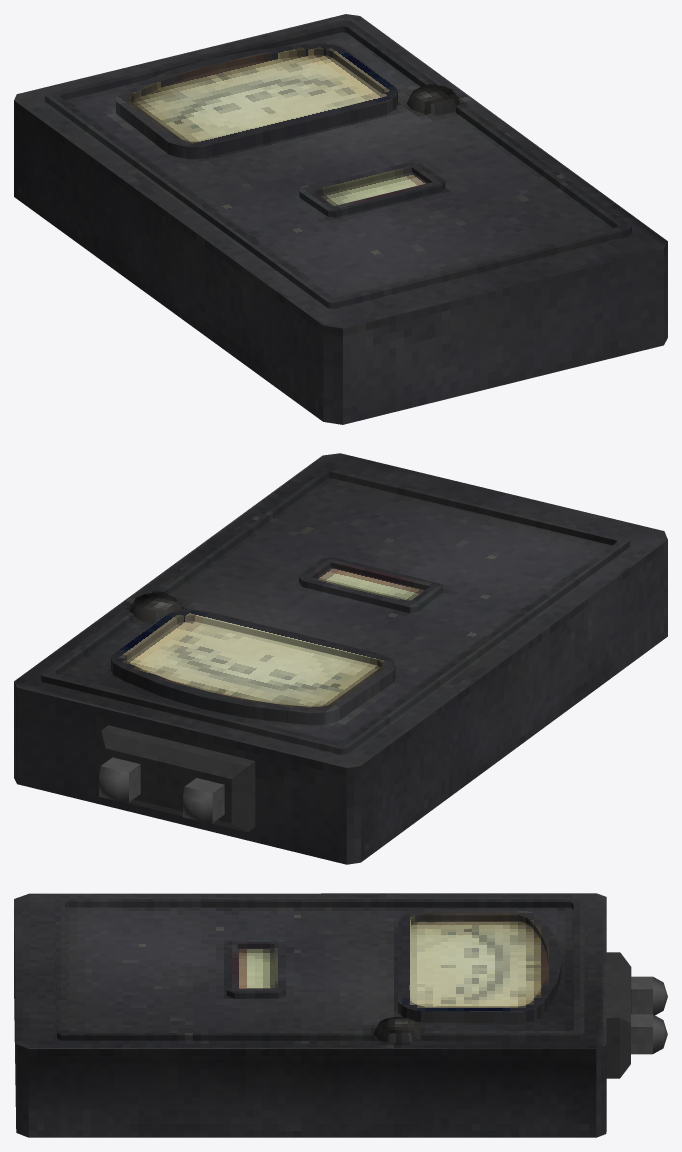
Rendered from dosimeter_4.glb.
3 renders of one model, top to bottom at view 1: azimuth 30°, elevation 25°; view 2: azimuth 150°, elevation 25°; view 3: azimuth 270°, elevation 25°, orthographic. The views are drawn at different scales.
Parts seen in each view (by area): view 1: dosimeter_4; view 2: dosimeter_4; view 3: dosimeter_4.
Boxes of the visible parts, box(x1,y1,x2,y2) form: dosimeter_4: box(14, 14, 667, 424); dosimeter_4: box(14, 453, 667, 864); dosimeter_4: box(14, 893, 667, 1137).
Bounding box in the file's own units: 0.1502 × 0.045 × 0.2667.
Materials: 1 (1 with a texture image).
